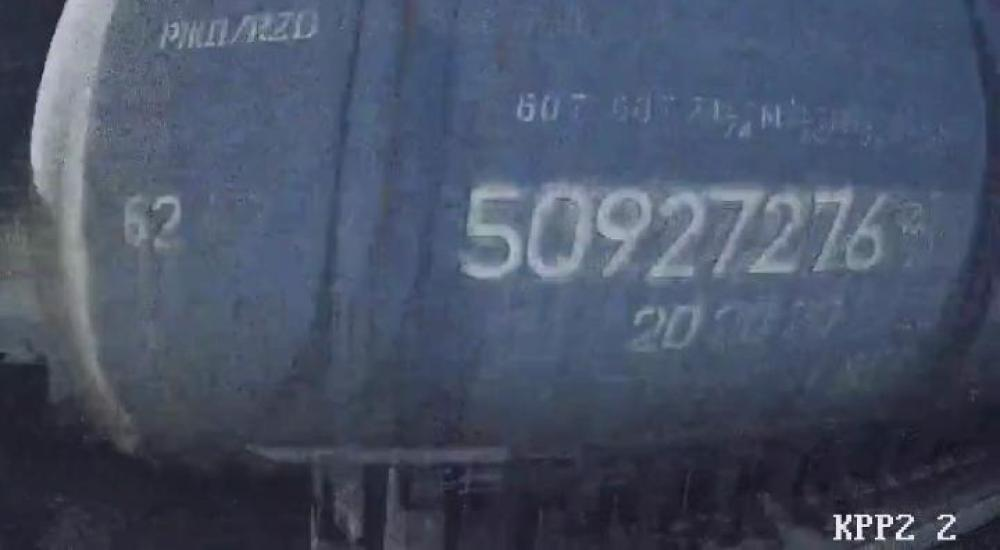Wagon-number: (454, 178, 893, 282)
